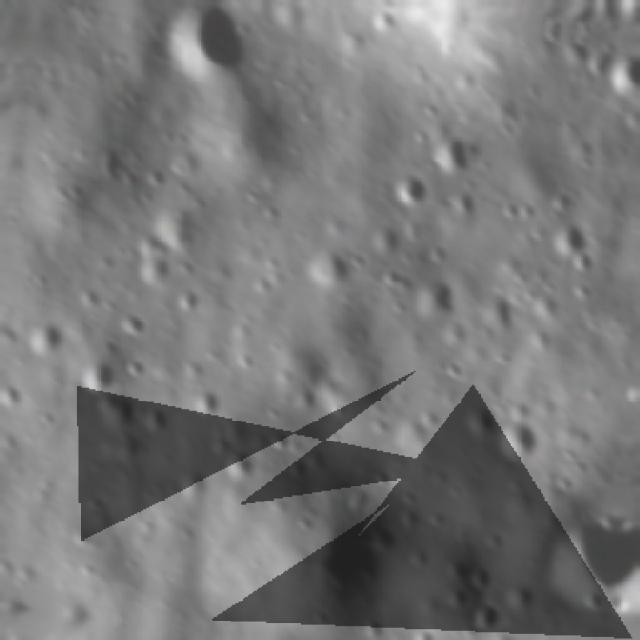crater: (154, 0, 264, 88), (537, 494, 620, 604), (402, 268, 458, 326), (68, 349, 125, 405), (546, 216, 594, 269), (488, 408, 538, 452), (606, 44, 640, 108), (384, 163, 430, 208), (631, 266, 640, 331)
